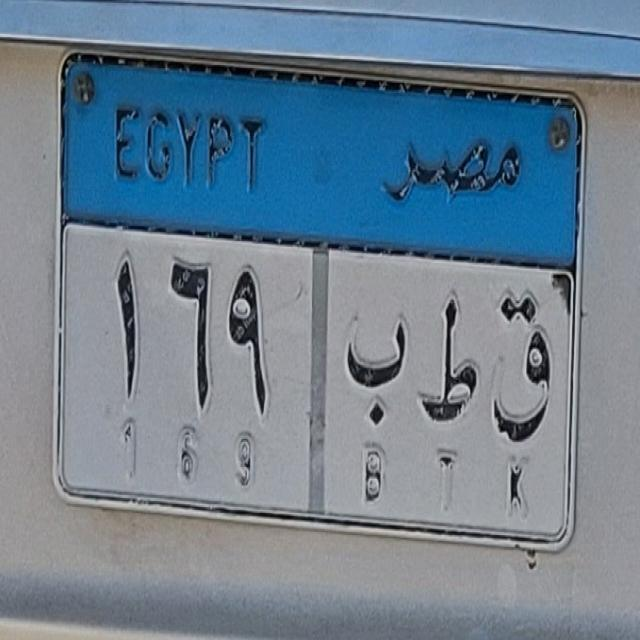1: (88, 249, 162, 411)
6: (149, 250, 232, 417)
9: (216, 260, 292, 426)
Taa: (486, 275, 564, 463), (412, 282, 488, 440)
baa: (332, 287, 420, 448)
